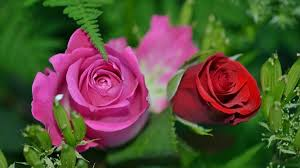rose: (52, 45, 152, 137), (181, 58, 266, 129)
